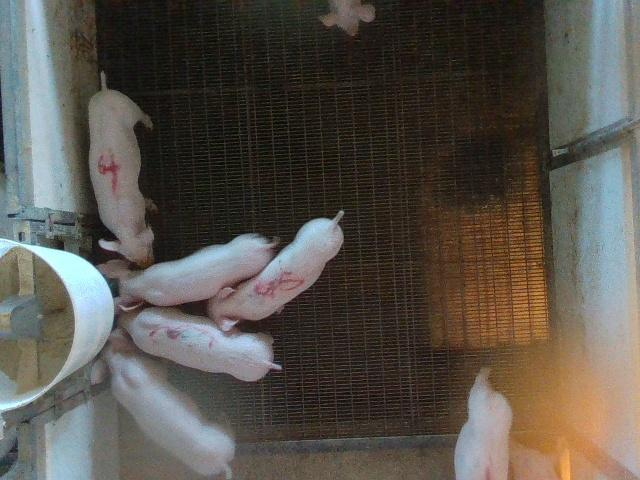pig-3: (119, 308, 281, 381)
pig-4: (89, 72, 154, 268)
pig-5: (210, 211, 344, 331)
